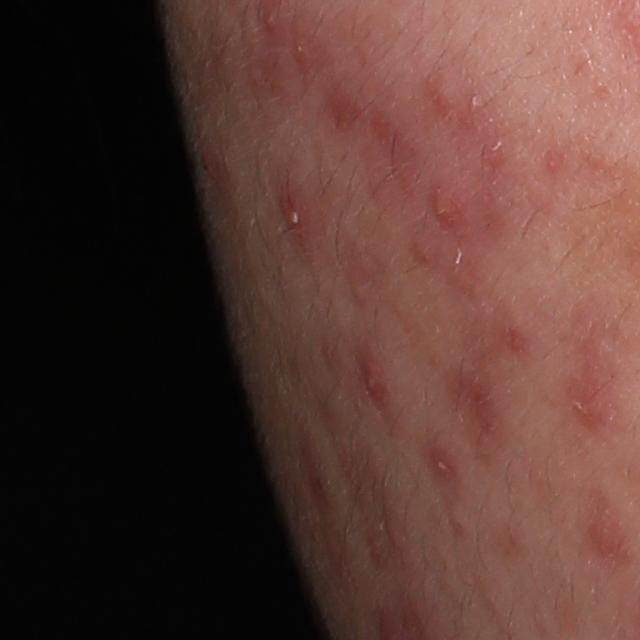papule: (561, 374, 629, 436), (276, 192, 308, 240), (425, 187, 463, 226), (261, 5, 289, 35)
